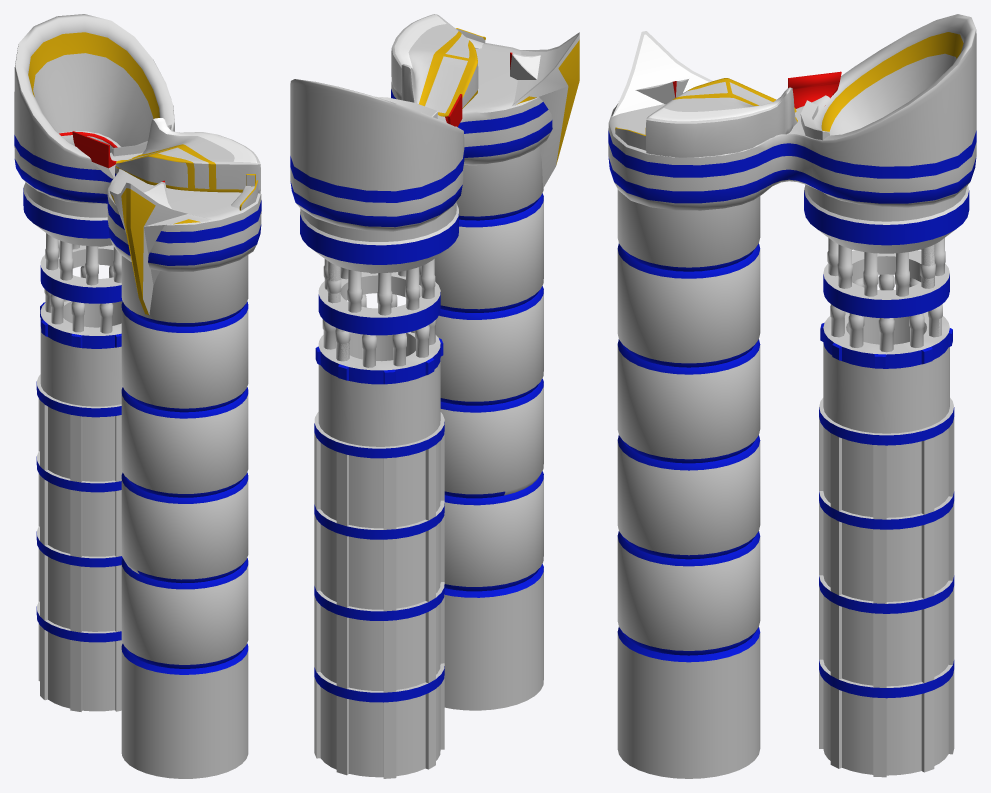
Rendered from level4.glb.
The picture shows the model from 3 angles, left to right: view 1: azimuth 30°, elevation 25°; view 2: azimuth 150°, elevation 25°; view 3: azimuth 270°, elevation 25°; orthographic projection. The views are drawn at different scales.
Parts seen in each view (by area): view 1: pillar_smaller-col, pillar_bigger-visual, Rooftop-col, CurvedBuilding-col, TriangleRamp1-col, pillars-visual, Wallrun-col, Doorramp-col; view 2: pillar_bigger-visual, pillar_smaller-col, Rooftop-col, CurvedBuilding-col, pillars-visual, TriangleRamp1-col, TriangleRampSmall-col; view 3: pillar_smaller-col, pillar_bigger-visual, Rooftop-col, CurvedBuilding-col, pillars-visual, TriangleRamp1-col, Wallrun-col, TriangleRampSmall-col.
Part boxes in pixels (box(x1,y1,x2,y2)): pillar_smaller-col: box(121, 255, 248, 778); pillar_bigger-visual: box(23, 182, 122, 711); Rooftop-col: box(14, 14, 261, 272); CurvedBuilding-col: box(116, 118, 260, 193); TriangleRamp1-col: box(110, 182, 211, 314); pillars-visual: box(44, 233, 121, 333); Wallrun-col: box(72, 131, 116, 178); Doorramp-col: box(231, 174, 258, 210); pillar_bigger-visual: box(300, 201, 458, 778); pillar_smaller-col: box(434, 147, 543, 710); Rooftop-col: box(290, 43, 552, 231); CurvedBuilding-col: box(391, 14, 478, 116); pillars-visual: box(322, 259, 436, 367); TriangleRamp1-col: box(512, 32, 579, 188); TriangleRampSmall-col: box(510, 52, 540, 79); pillar_smaller-col: box(617, 189, 760, 778); pillar_bigger-visual: box(804, 184, 969, 777); Rooftop-col: box(608, 14, 976, 210); CurvedBuilding-col: box(646, 78, 797, 157); pillars-visual: box(827, 238, 945, 352); TriangleRamp1-col: box(611, 31, 712, 116); Wallrun-col: box(788, 71, 841, 108); TriangleRampSmall-col: box(635, 79, 688, 104).
Size of what is drawn, in the model's own units: 34.58 by 147 by 68.16.
